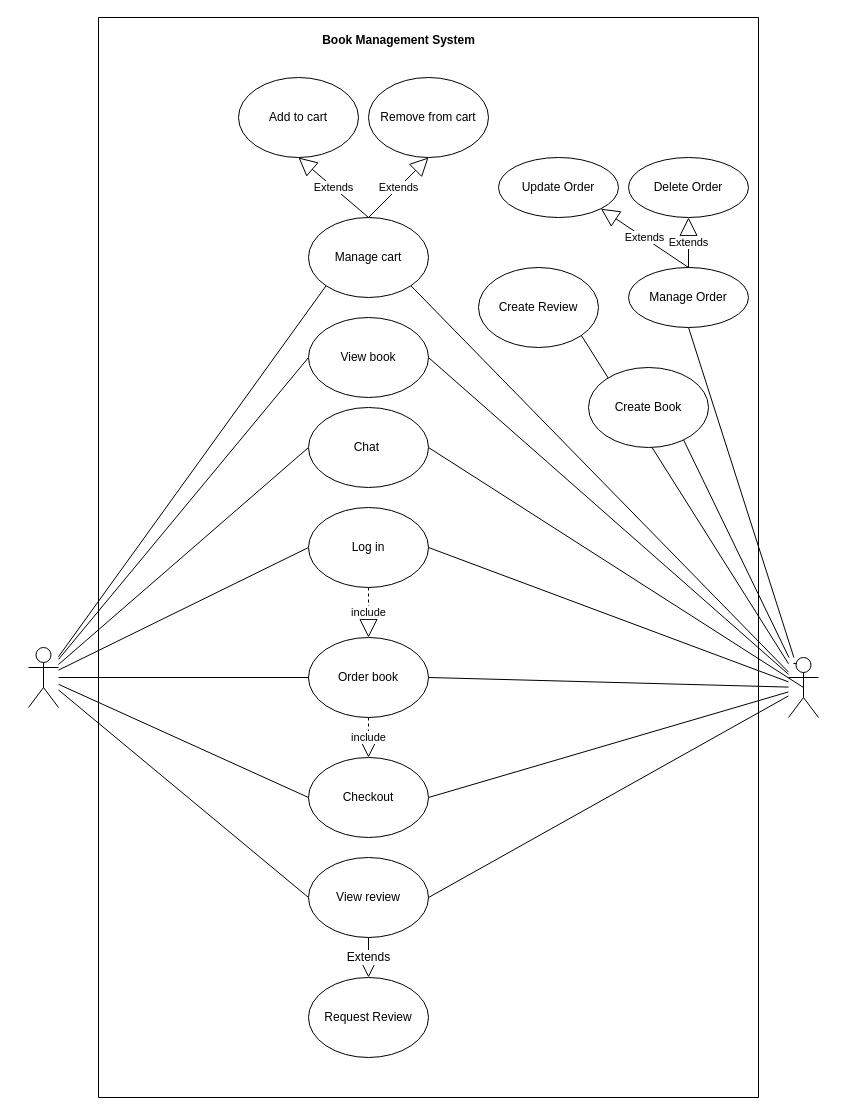
This 844x1115 diagram has some shape labels left out. Here are the shapes that lost their labels. From the top down, the centre of each, then its label:
At point (43, 677): "Customer".
At point (803, 687): "Librarian".
